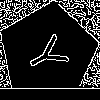Y: (23, 28, 79, 79)
